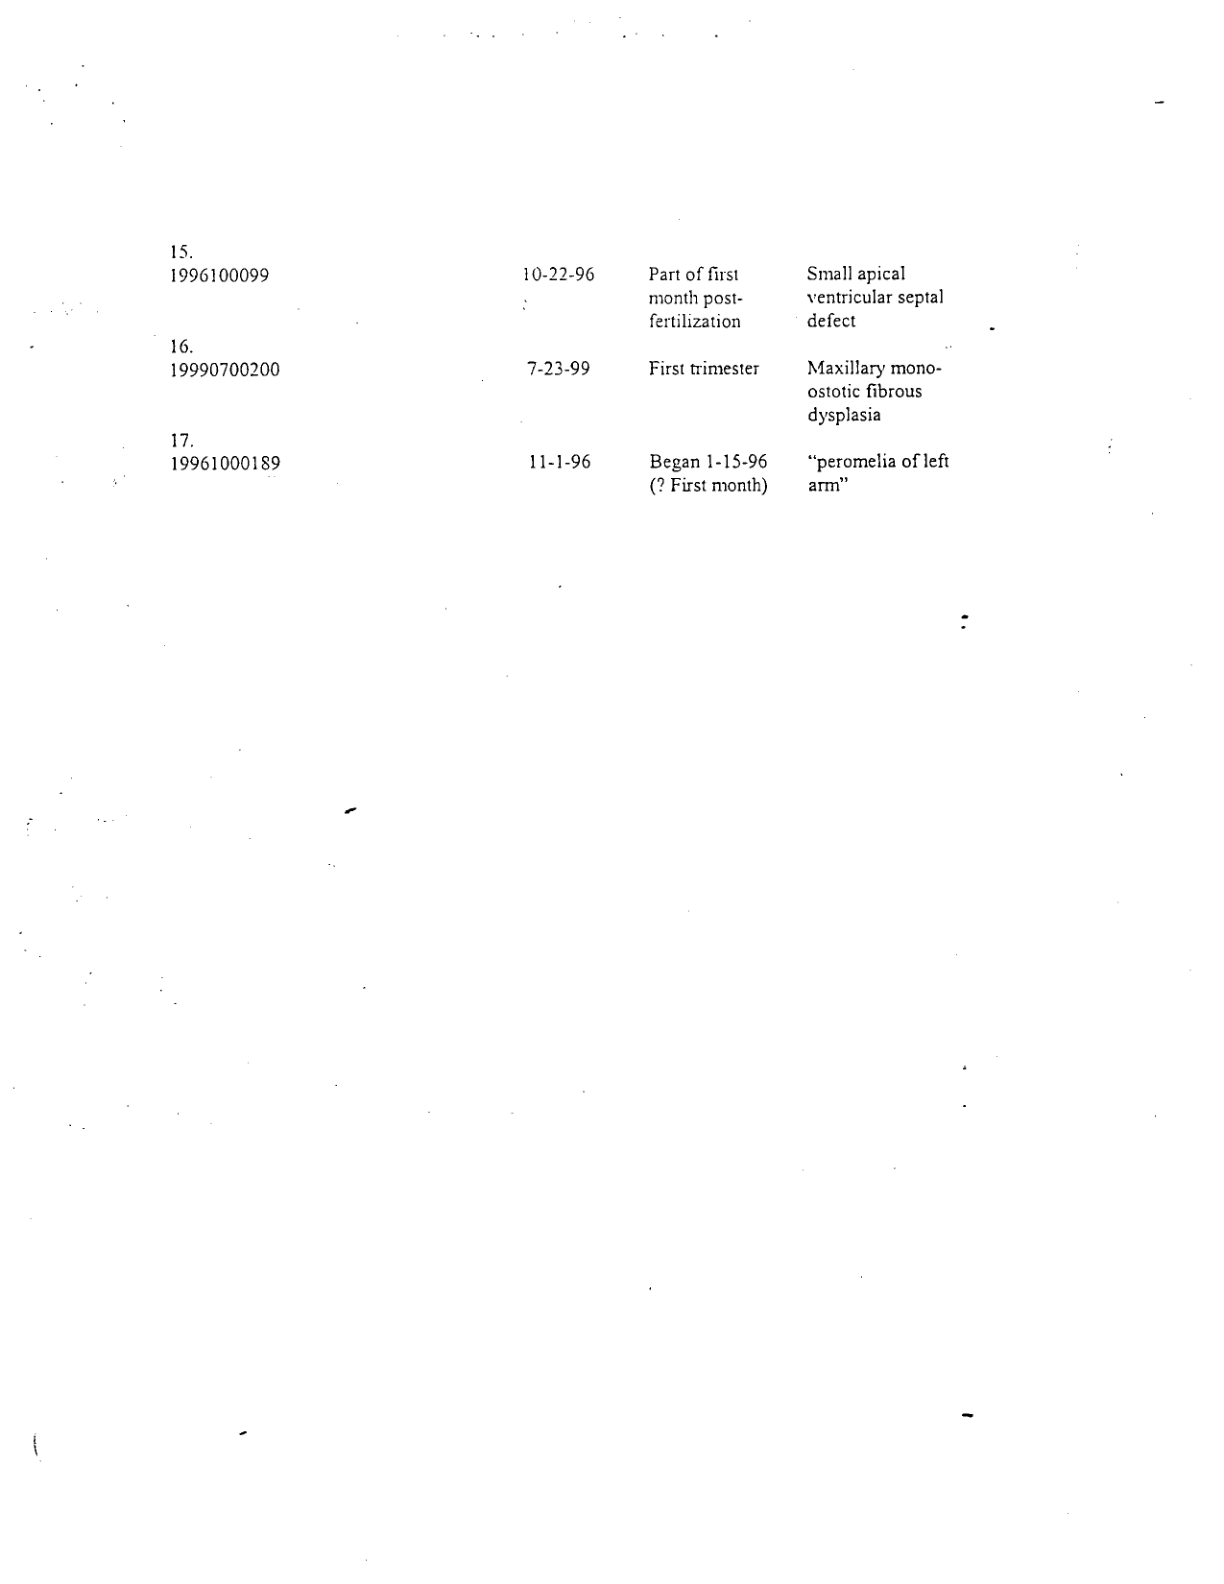nolines: (168, 239, 954, 495)
